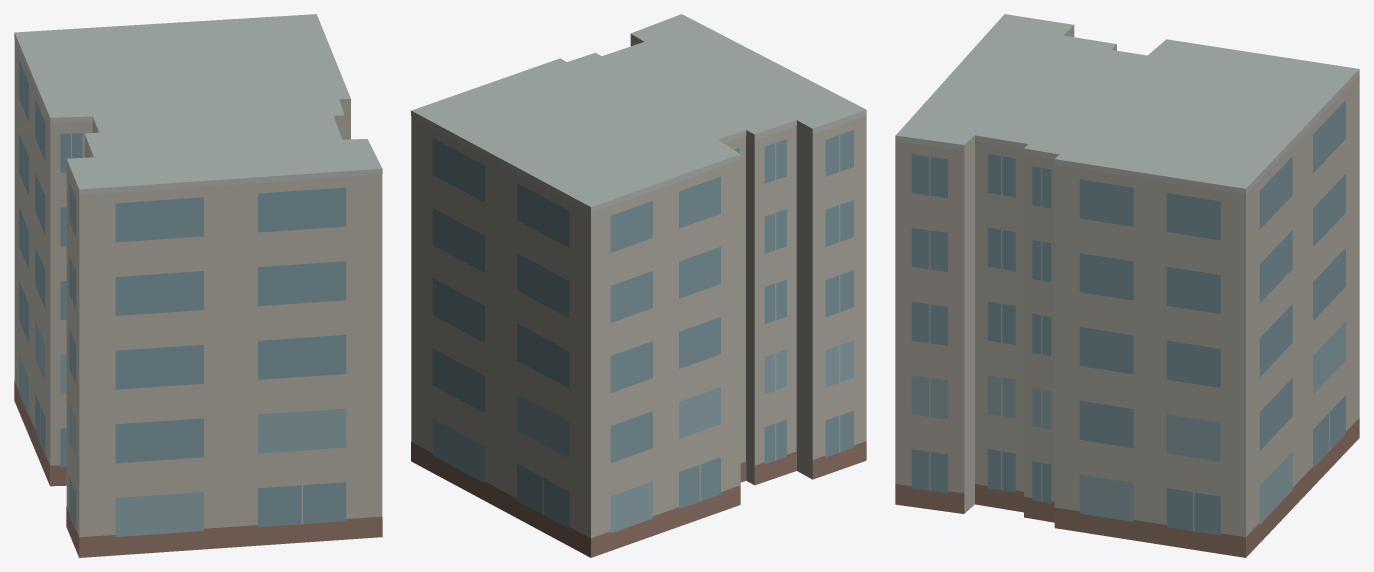
Rendered from survey-upis-32552576.glb.
3 views of the same model, side by side, from view 1: azimuth 30°, elevation 25°; view 2: azimuth 150°, elevation 25°; view 3: azimuth 270°, elevation 25° (orthographic). The views are drawn at different scales.
Parts seen in each view (by area): view 1: survey-upis-32552576.tmp; view 2: survey-upis-32552576.tmp; view 3: survey-upis-32552576.tmp.
Part boxes in pixels (left/top/right/bottom): survey-upis-32552576.tmp: left=14, top=14, right=382, bottom=557; survey-upis-32552576.tmp: left=411, top=14, right=866, bottom=557; survey-upis-32552576.tmp: left=895, top=14, right=1359, bottom=557.
Bounding box in the file's own units: 15.67 × 15.4 × 17.56.
